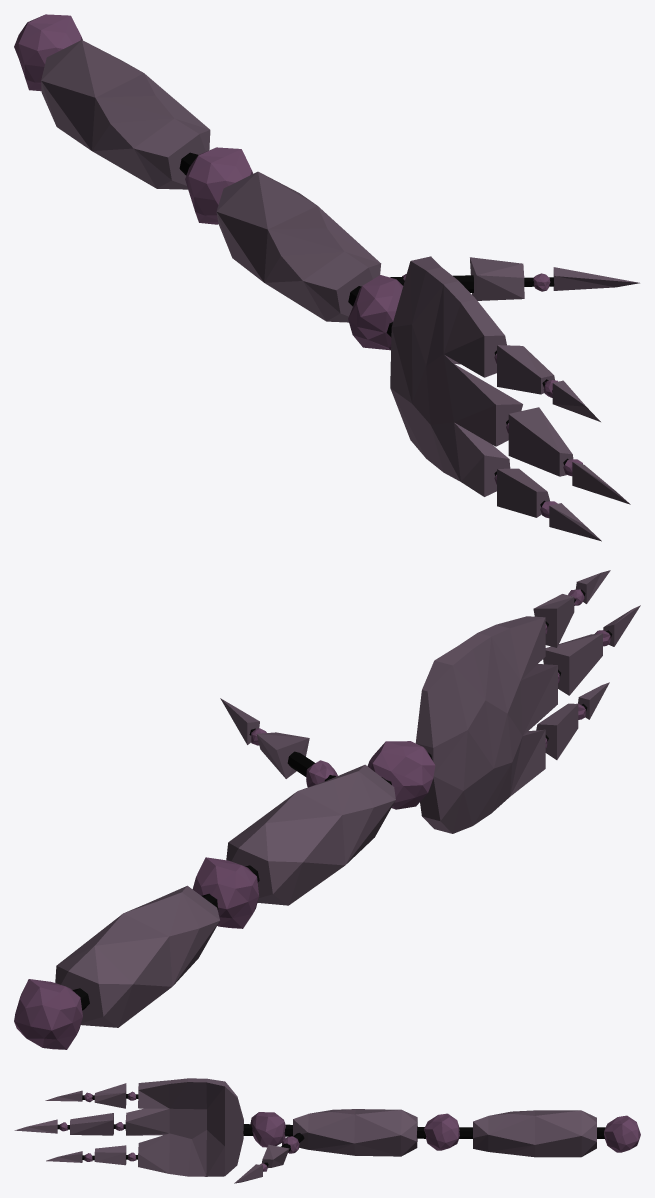
Rendered from PlayerArm.fbx.
3 renders of one model, top to bottom at view 1: azimuth 30°, elevation 25°; view 2: azimuth 150°, elevation 25°; view 3: azimuth 270°, elevation 25°, orthographic. The views are drawn at different scales.
Visible parts, largest first — view 1: Palm, LowerArm, UpperArm, MiddleLowerDigit, BackLowerDigit, TopLowerDigit, BottomLowerDigit, BackUpperDigit, MiddleUpperDigit, BottomUpperDigit, TopUpperDigit; view 2: Palm, LowerArm, UpperArm, BackLowerDigit, MiddleLowerDigit, BottomLowerDigit, TopLowerDigit, BackUpperDigit, MiddleUpperDigit, TopUpperDigit; view 3: Palm, LowerArm, UpperArm, MiddleLowerDigit, BackLowerDigit, TopLowerDigit, BottomLowerDigit, MiddleUpperDigit, BottomUpperDigit, TopUpperDigit, BackUpperDigit.
Part boxes in pixels (box(x1,y1,x2,y2)): Palm: box(348, 256, 522, 496); LowerArm: box(14, 14, 210, 189); UpperArm: box(185, 147, 404, 322); MiddleLowerDigit: box(506, 407, 573, 476); BackLowerDigit: box(402, 257, 534, 300); TopLowerDigit: box(494, 345, 554, 394); BottomLowerDigit: box(494, 468, 549, 517); BackUpperDigit: box(533, 267, 639, 291); MiddleUpperDigit: box(563, 459, 630, 504); BottomUpperDigit: box(540, 501, 601, 541); TopUpperDigit: box(543, 380, 600, 421); Palm: box(367, 616, 557, 833); LowerArm: box(14, 885, 219, 1049); UpperArm: box(192, 764, 395, 928); BackLowerDigit: box(256, 732, 337, 787); MiddleLowerDigit: box(543, 633, 602, 695); BottomLowerDigit: box(536, 703, 578, 759); TopLowerDigit: box(533, 594, 576, 647); BackUpperDigit: box(220, 698, 266, 745); MiddleUpperDigit: box(595, 605, 640, 646); TopUpperDigit: box(568, 570, 610, 605); Palm: box(123, 1078, 285, 1176); LowerArm: box(459, 1110, 640, 1157); UpperArm: box(284, 1109, 459, 1156); MiddleLowerDigit: box(67, 1113, 123, 1135); BackLowerDigit: box(261, 1136, 299, 1167); TopLowerDigit: box(92, 1083, 136, 1108); BottomLowerDigit: box(92, 1145, 136, 1165); MiddleUpperDigit: box(14, 1119, 67, 1133); BottomUpperDigit: box(46, 1151, 92, 1162); TopUpperDigit: box(45, 1090, 92, 1102); BackUpperDigit: box(234, 1163, 267, 1183).
Size of the model in its own units: 0.6135 by 2.53 by 0.42.
